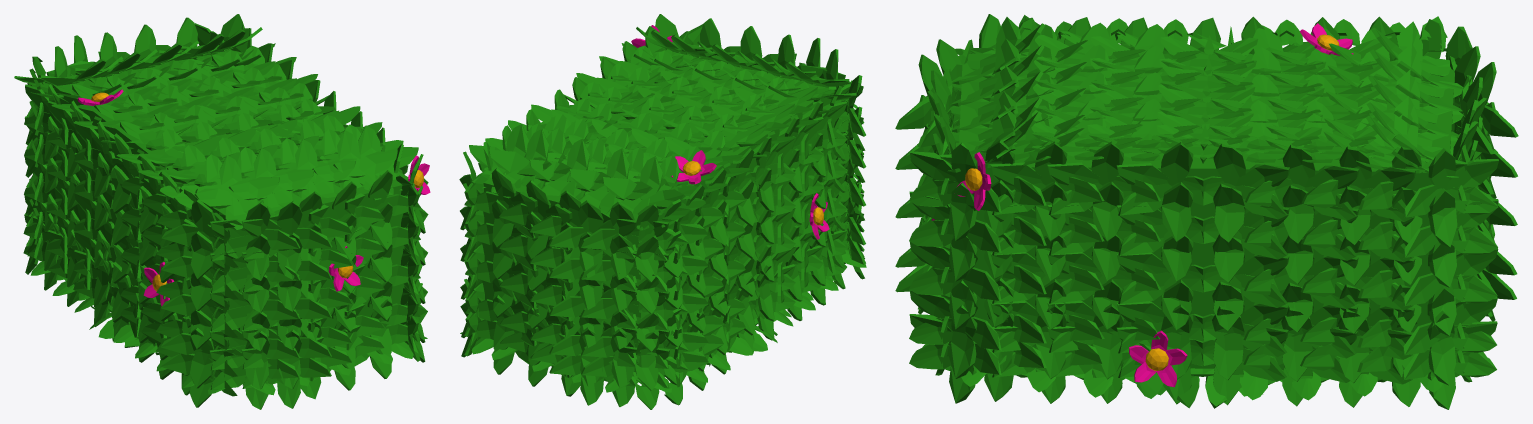
Rendered from Bush.fbx.
3 renders of one model, left to right at view 1: azimuth 30°, elevation 25°; view 2: azimuth 150°, elevation 25°; view 3: azimuth 270°, elevation 25°, orthographic. The views are drawn at different scales.
Visible parts, largest first — view 1: Bush; view 2: Bush; view 3: Bush.
Boxes of the visible parts, left/top/right/bottom form: Bush: left=14, top=14, right=430, bottom=409; Bush: left=459, top=14, right=866, bottom=409; Bush: left=895, top=14, right=1518, bottom=409.
Size of the model in its own units: 4.47 by 3.75 by 7.29.
